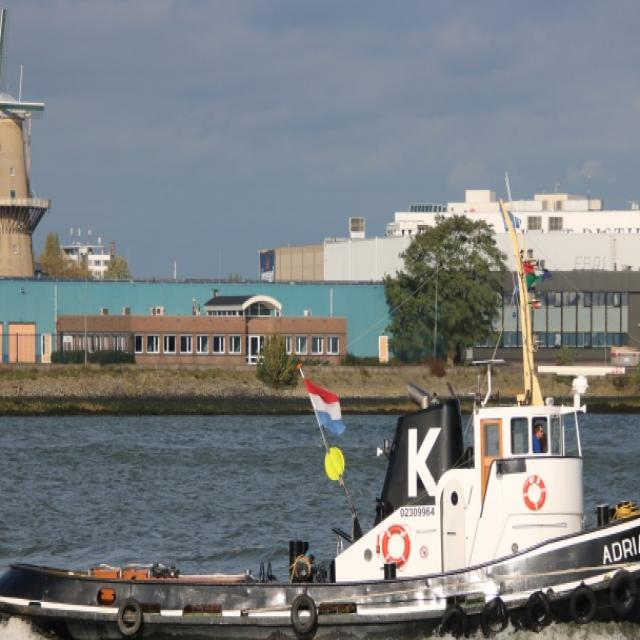tugboat: (1, 371, 640, 640)
